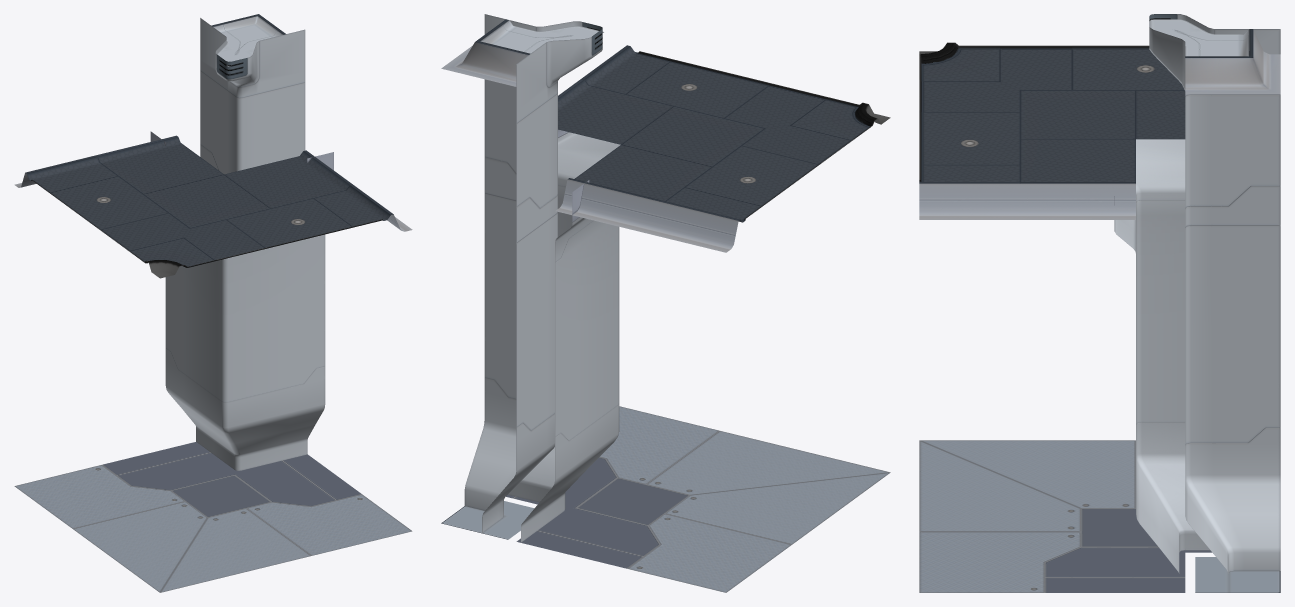
Rendered from Room_A_corner_small.fbx.
The picture shows the model from 3 angles, left to right: view 1: azimuth 30°, elevation 25°; view 2: azimuth 150°, elevation 25°; view 3: azimuth 270°, elevation 25°; orthographic projection. The views are drawn at different scales.
Parts seen in each view (by area): view 1: Room_A_corner_small; view 2: Room_A_corner_small; view 3: Room_A_corner_small.
Part boxes in pixels (bbox=[...]): Room_A_corner_small: bbox=[14, 14, 412, 592]; Room_A_corner_small: bbox=[441, 14, 890, 592]; Room_A_corner_small: bbox=[919, 14, 1280, 592].
Bounding box in the file's own units: 250 × 400 × 250.
8 materials, 8 textured.
